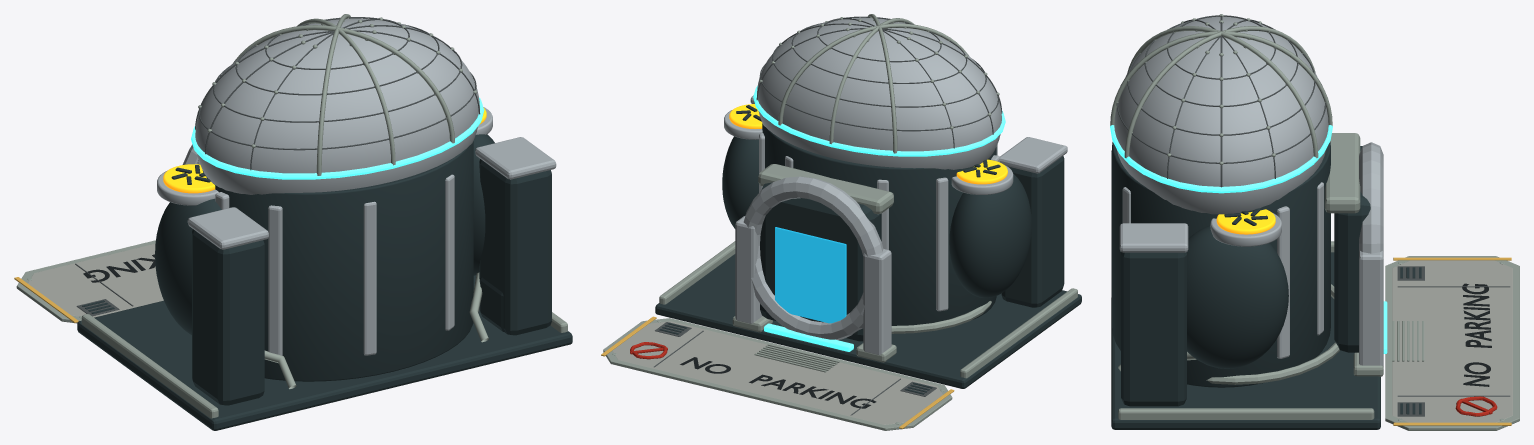
Rendered from battlecity-command-center.glb.
The picture shows the model from 3 angles, left to right: view 1: azimuth 30°, elevation 25°; view 2: azimuth 150°, elevation 25°; view 3: azimuth 270°, elevation 25°; orthographic projection. The views are drawn at different scales.
Visible parts, largest first — view 1: DX dark machinery, DX chrome, Brushed steel, Pale stone apron, Armour panel joints, Command glow, Amber circular lamps, Lettering charcoal; view 2: DX dark machinery, DX chrome, Brushed steel, Pale stone apron, Entrance energy core, Armour panel joints, Command glow, Amber circular lamps, Lettering charcoal, Command gold; view 3: DX dark machinery, DX chrome, Pale stone apron, Brushed steel, Armour panel joints, Command glow, Lettering charcoal, Amber circular lamps, Command gold, Red apron paint.
Boxes of the visible parts, bbox=[...] form: DX dark machinery: bbox=[77, 134, 572, 430]; DX chrome: bbox=[157, 18, 556, 355]; Brushed steel: bbox=[16, 14, 567, 418]; Pale stone apron: bbox=[27, 244, 163, 317]; Armour panel joints: bbox=[75, 17, 480, 316]; Command glow: bbox=[191, 97, 484, 179]; Amber circular lamps: bbox=[163, 107, 486, 193]; Lettering charcoal: bbox=[83, 254, 155, 282]; DX dark machinery: bbox=[655, 123, 1081, 394]; DX chrome: bbox=[724, 17, 1067, 355]; Brushed steel: bbox=[603, 14, 1077, 430]; Pale stone apron: bbox=[612, 321, 942, 424]; Entrance energy core: bbox=[775, 227, 846, 323]; Armour panel joints: bbox=[654, 16, 1002, 415]; Command glow: bbox=[753, 86, 1005, 351]; Amber circular lamps: bbox=[729, 104, 1007, 184]; Lettering charcoal: bbox=[680, 357, 876, 408]; Command gold: bbox=[601, 316, 954, 429]; DX dark machinery: bbox=[1111, 141, 1421, 429]; DX chrome: bbox=[1111, 16, 1383, 366]; Pale stone apron: bbox=[1392, 260, 1512, 422]; Brushed steel: bbox=[1110, 14, 1519, 430]; Armour panel joints: bbox=[1116, 15, 1510, 416]; Command glow: bbox=[1110, 125, 1387, 353]; Lettering charcoal: bbox=[1462, 283, 1491, 386]; Amber circular lamps: bbox=[1216, 209, 1275, 234]; Command gold: bbox=[1393, 257, 1511, 425]; Red apron paint: bbox=[1455, 396, 1497, 416].
Size of the model in its own units: 2.96 by 2.51 by 2.98.
